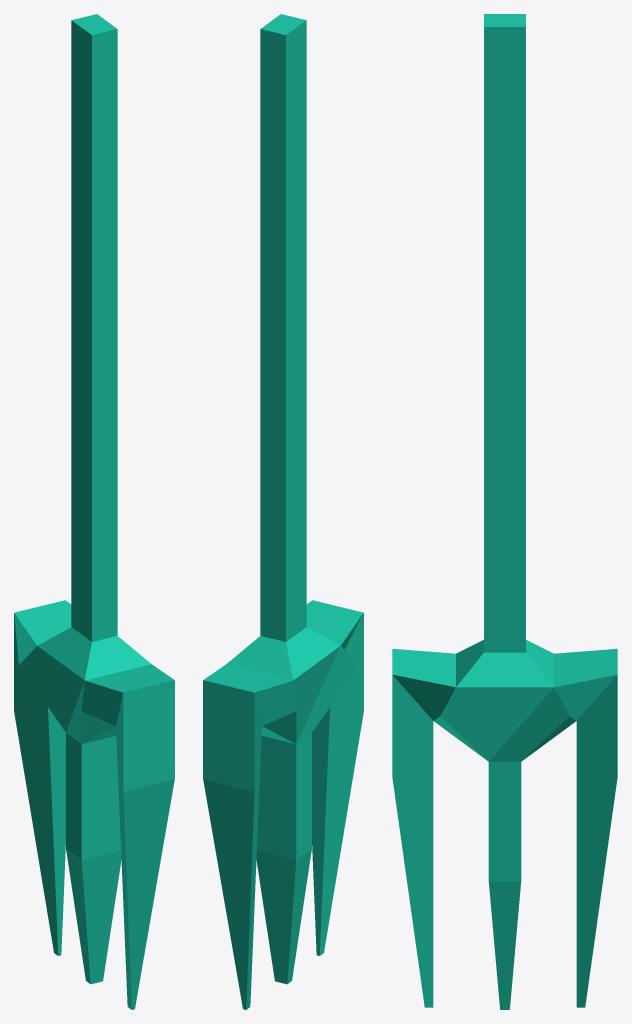
File: Trident.obj
The picture shows the model from 3 angles, left to right: view 1: azimuth 30°, elevation 25°; view 2: azimuth 150°, elevation 25°; view 3: azimuth 270°, elevation 25°; orthographic projection. The views are drawn at different scales.
Parts seen in each view (by area): view 1: Cube; view 2: Cube; view 3: Cube.
Part boxes in pixels (box(x1,y1,x2,y2)): Cube: box(14, 14, 174, 1009); Cube: box(203, 14, 363, 1009); Cube: box(392, 14, 617, 1009).
Size of the model in its own units: 0.7182 by 7.41 by 1.54.
